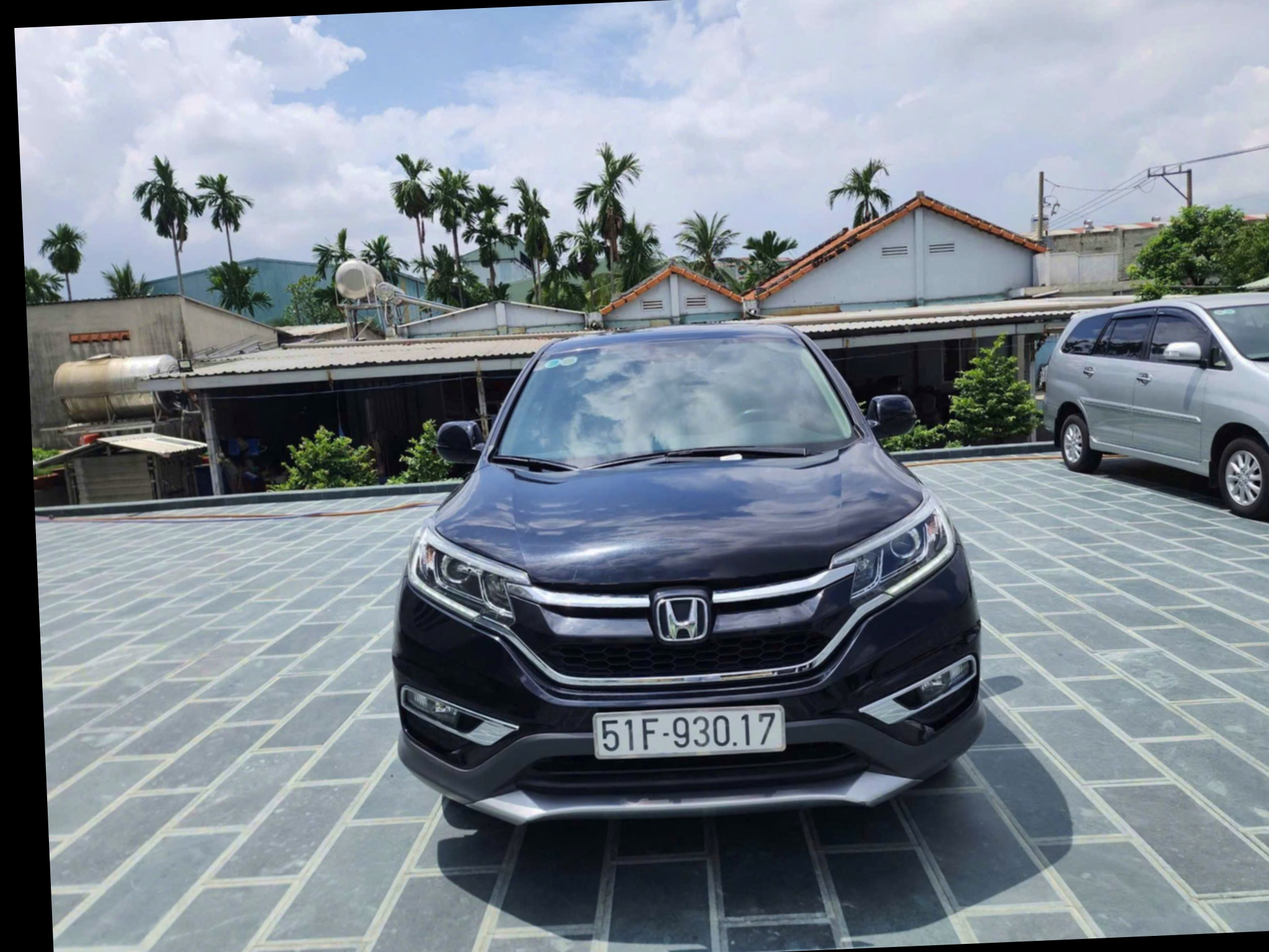Bien-so: (552, 707, 740, 763)
